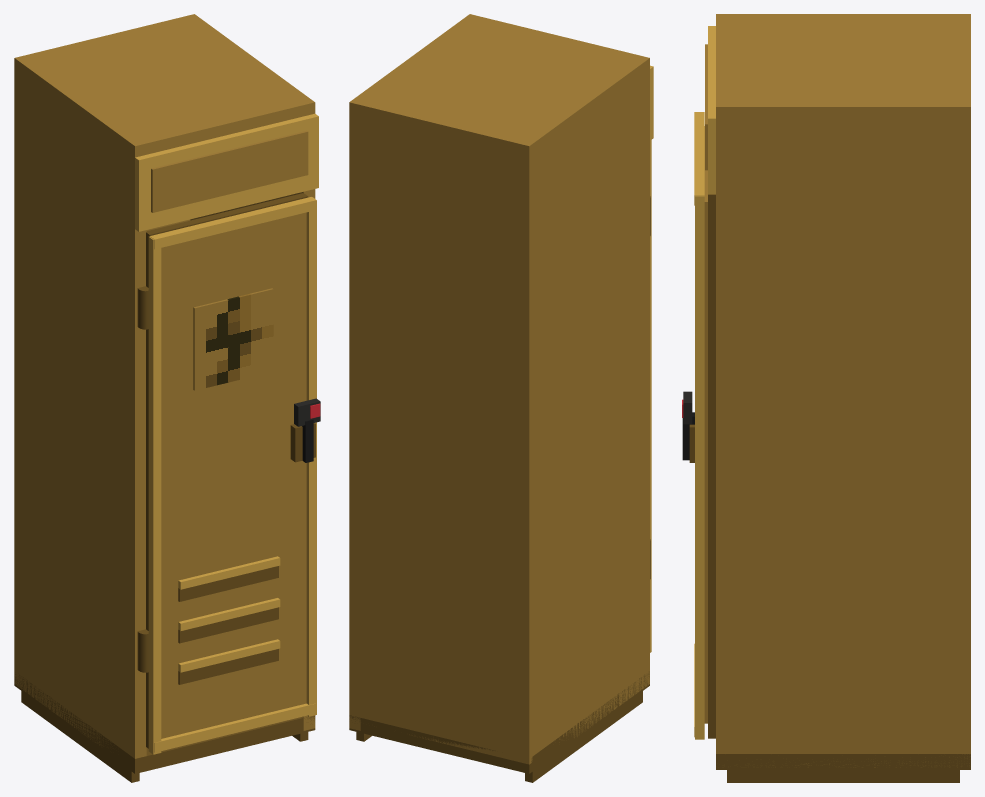
The model's file is CMU3DInheritedLockersEngineerElectricCloud.glb.
3 renders of one model, left to right at view 1: azimuth 30°, elevation 25°; view 2: azimuth 150°, elevation 25°; view 3: azimuth 270°, elevation 25°, orthographic. The views are drawn at different scales.
Parts seen in each view (by area): view 1: full-depth side wall -1, separate closed steel door, top structural cap, header inset field, raised vertical door molding -1, header front band, original departmental identity emblem, rear structural panel, raised vertical door molding 1, bottom pan, raised horizontal door molding 1.44, door shadow gasket (+10 smaller); view 2: rear structural panel, full-depth side wall -1, top structural cap, full-depth side wall 1, bottom pan, grounded cabinet foot -1, raised vertical door molding -1; view 3: full-depth side wall 1, top structural cap, rear structural panel, raised vertical door molding 1, door shadow gasket, bottom pan, grounded cabinet foot 1, separate closed steel door, full-depth side wall -1, header front band, raised horizontal door molding 1.44.
Part boxes in pixels (box(x1,y1,x2,y2)): full-depth side wall -1: box(14, 56, 146, 758); separate closed steel door: box(161, 212, 306, 738); top structural cap: box(15, 14, 315, 159); header inset field: box(151, 130, 308, 212); raised vertical door molding -1: box(148, 236, 161, 754); header front band: box(135, 113, 318, 231); original departmental identity emblem: box(193, 288, 273, 390); rear structural panel: box(14, 14, 201, 680); raised vertical door molding 1: box(306, 197, 316, 716); bottom pan: box(14, 674, 315, 773); raised horizontal door molding 1.44: box(150, 197, 315, 249); door shadow gasket: box(146, 193, 308, 748); rear structural panel: box(349, 97, 536, 764); full-depth side wall -1: box(518, 55, 649, 754); top structural cap: box(349, 14, 649, 160); full-depth side wall 1: box(349, 14, 480, 730); bottom pan: box(349, 671, 649, 773); grounded cabinet foot -1: box(525, 691, 642, 782); raised vertical door molding -1: box(650, 140, 651, 652); full-depth side wall 1: box(716, 101, 970, 767); top structural cap: box(716, 14, 970, 122); rear structural panel: box(955, 14, 970, 758); raised vertical door molding 1: box(695, 195, 704, 739); door shadow gasket: box(708, 194, 715, 738); bottom pan: box(716, 754, 970, 769); grounded cabinet foot 1: box(727, 770, 959, 782); separate closed steel door: box(704, 126, 707, 723); full-depth side wall -1: box(716, 14, 970, 19); header front band: box(708, 26, 715, 194); raised horizontal door molding 1.44: box(694, 112, 704, 205).
Size of the model in its own units: 0.5 by 1.7 by 0.657.
7 materials, 1 textured.
